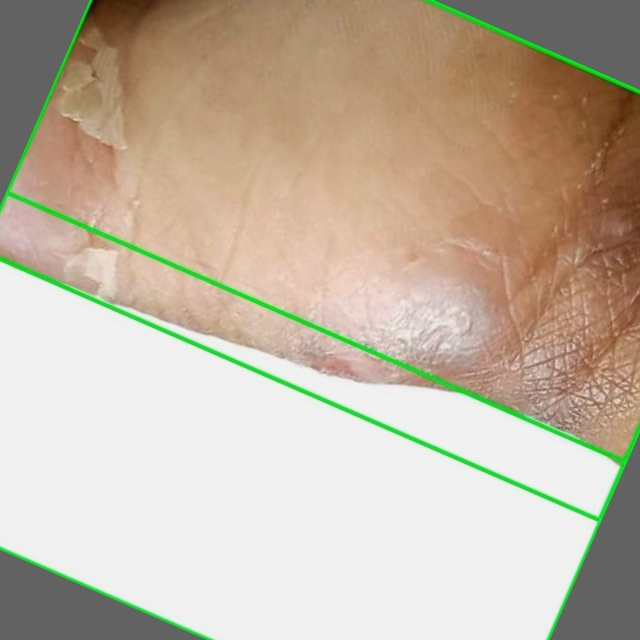Scabies: (0, 0, 639, 520), (0, 191, 626, 639)
